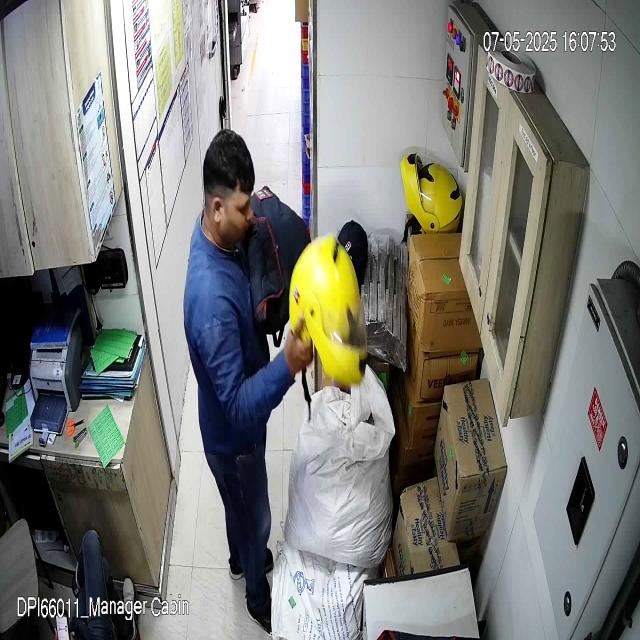helmet: (290, 235, 366, 379), (400, 152, 462, 236)
